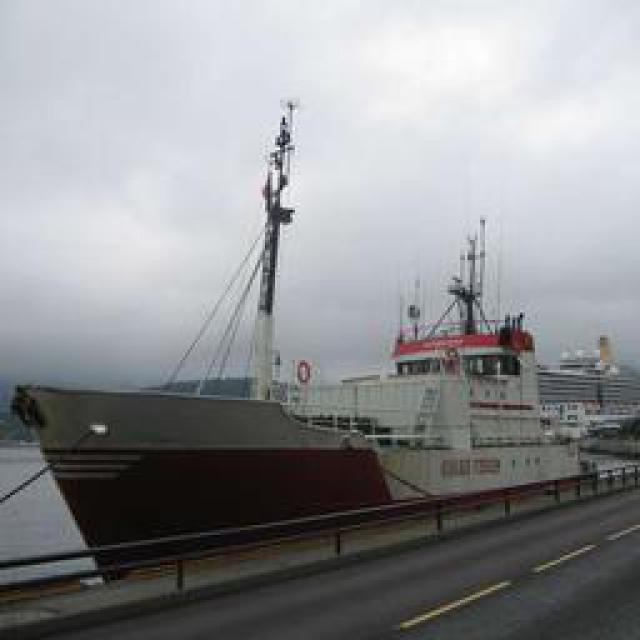Ship: (10, 92, 605, 588)
